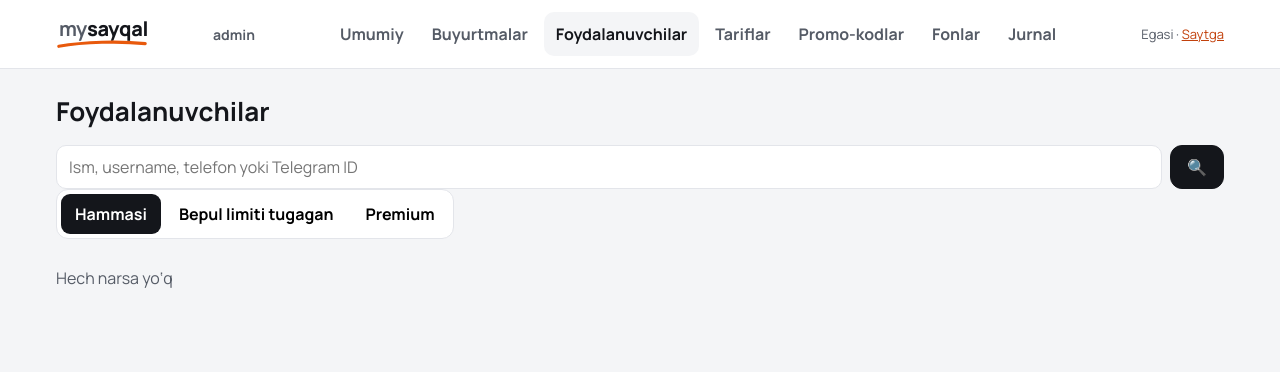
Scenario: admin panel › foydalanuvchi: qidiruv va Premium berish
This screenshot has width=1280, height=372.
Later steps or results of the test are not shown.
Type "998901" into the search field. click: (609, 167)
box: [56,145,1162,189]
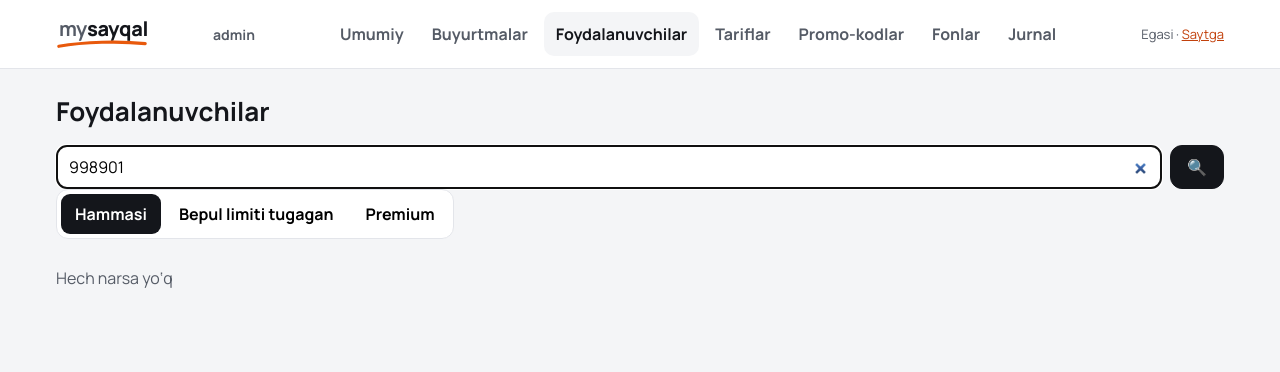
Click the button "🔍". click: click(1197, 167)
box: [1170,145,1224,189]
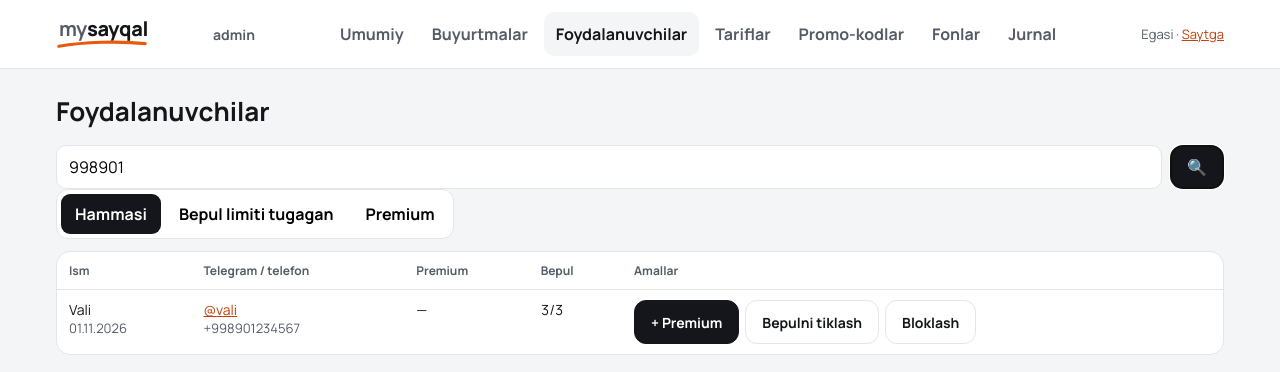
Result: the row with test id "user-77" shows "3/3" at [57,290,1223,354]
